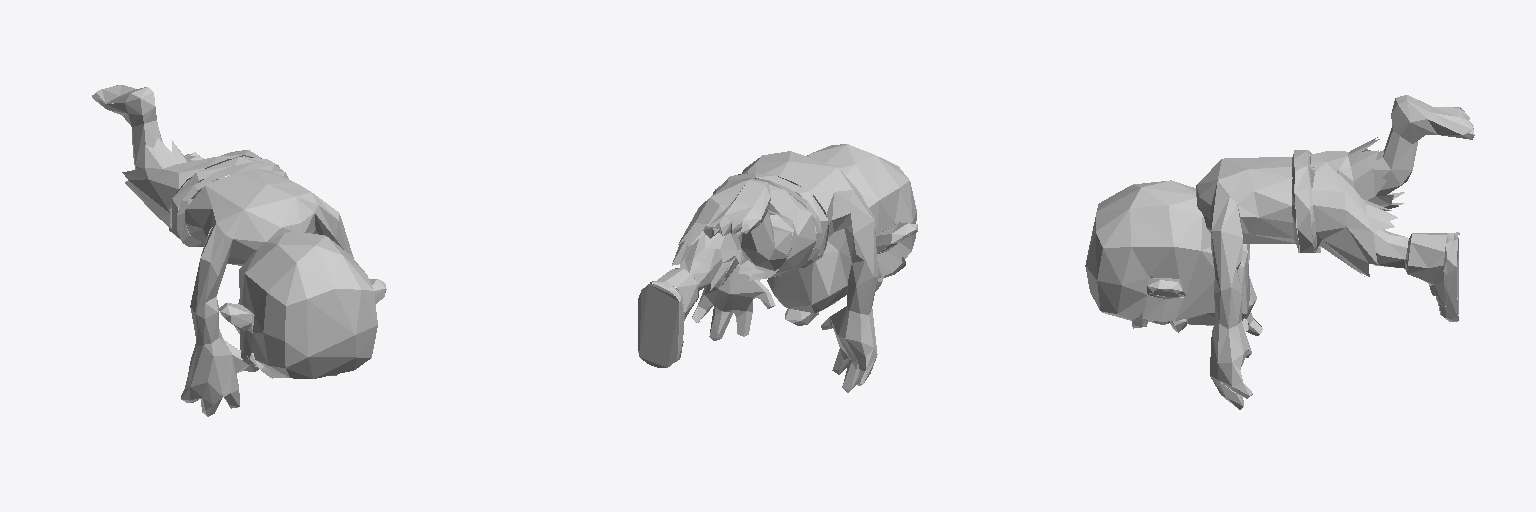
The model's file is ZombieWalk0021.obj.
The picture shows the model from 3 angles: view 1: azimuth 30°, elevation 25°; view 2: azimuth 150°, elevation 25°; view 3: azimuth 270°, elevation 25°; orthographic projection.
Visible parts, largest first — view 1: Zombie; view 2: Zombie; view 3: Zombie.
Boxes of the visible parts, x1,y1,x2,y2 form: Zombie: [92, 85, 386, 416]; Zombie: [638, 144, 917, 392]; Zombie: [1085, 95, 1474, 409].
Size of the model in its own units: 3.05 by 4.25 by 5.61.